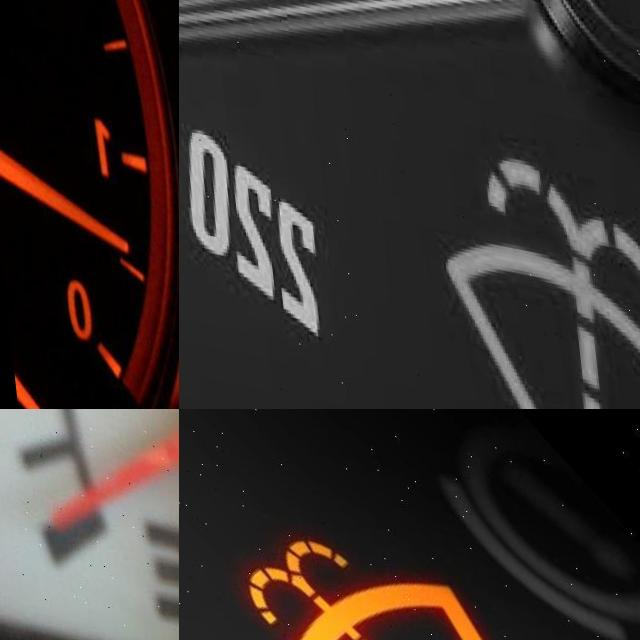Washer Fluid: (424, 127, 640, 409), (237, 520, 562, 640)
